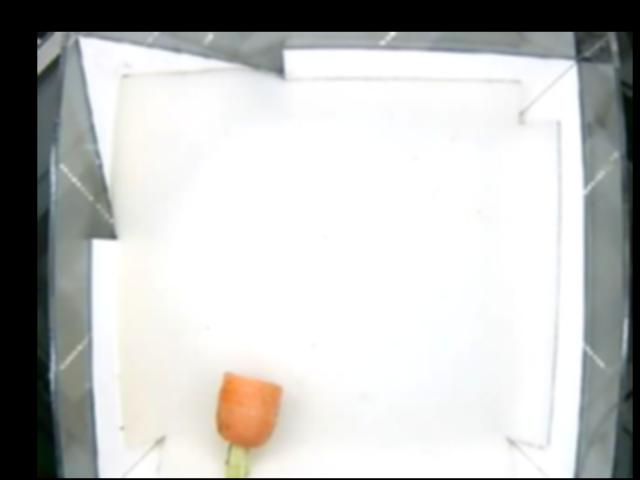Carrot: (208, 370, 282, 478)
